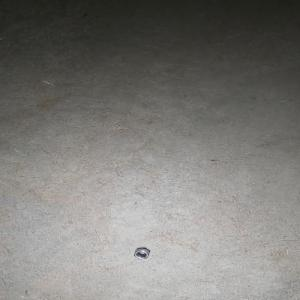Nut: (132, 248, 150, 259)
